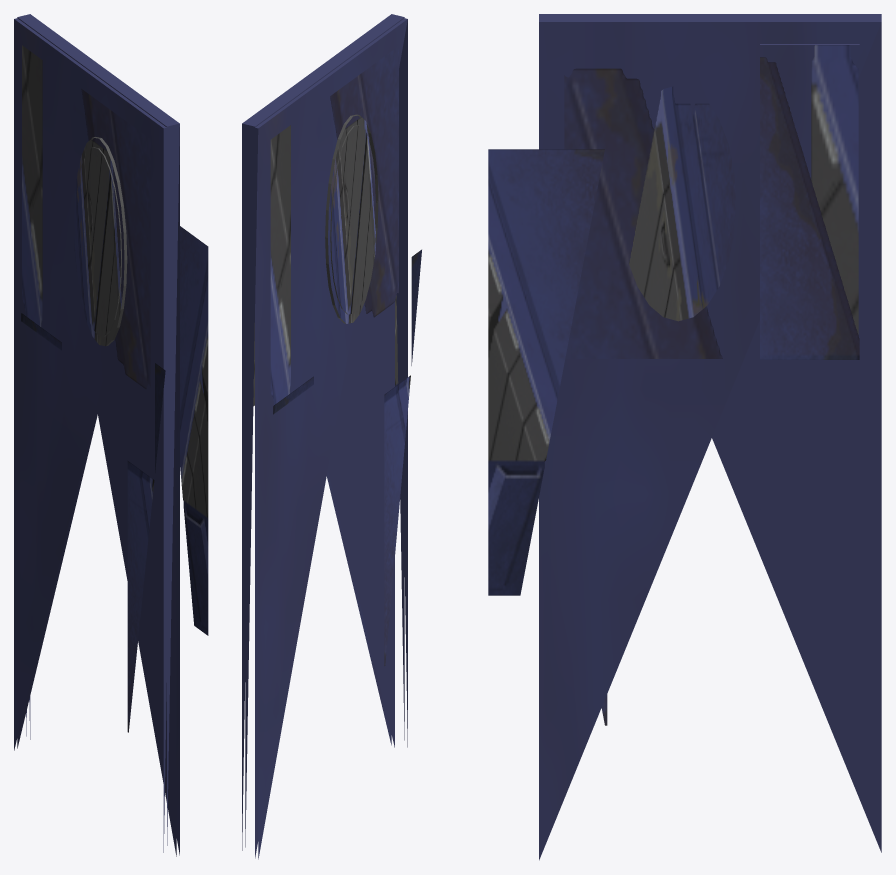
3 views of the same model, side by side, from view 1: azimuth 30°, elevation 25°; view 2: azimuth 150°, elevation 25°; view 3: azimuth 270°, elevation 25° (orthographic). The views are drawn at different scales.
Bounding box in the file's own units: 0.0816 × 2 × 0.8879.
